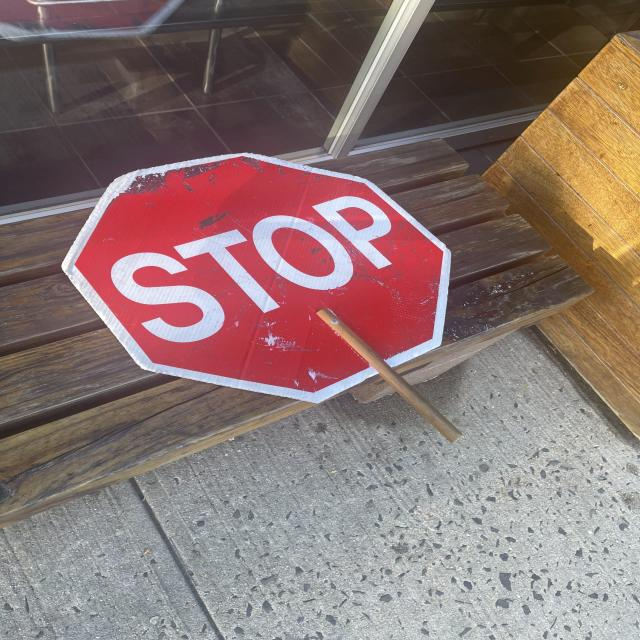stop-sign: (98, 162, 478, 386)
